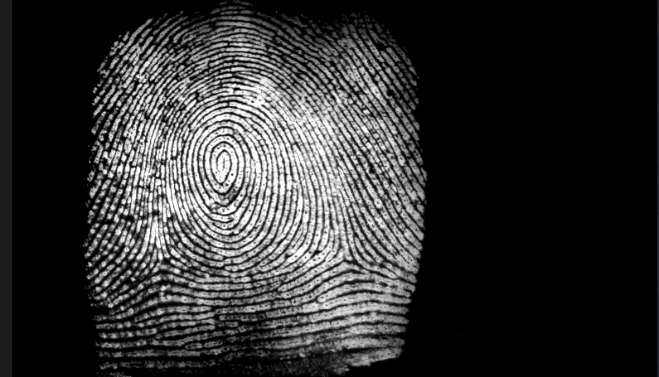deltas: (131, 231, 179, 278), (323, 235, 368, 277)
nucleo: (200, 136, 239, 185)
